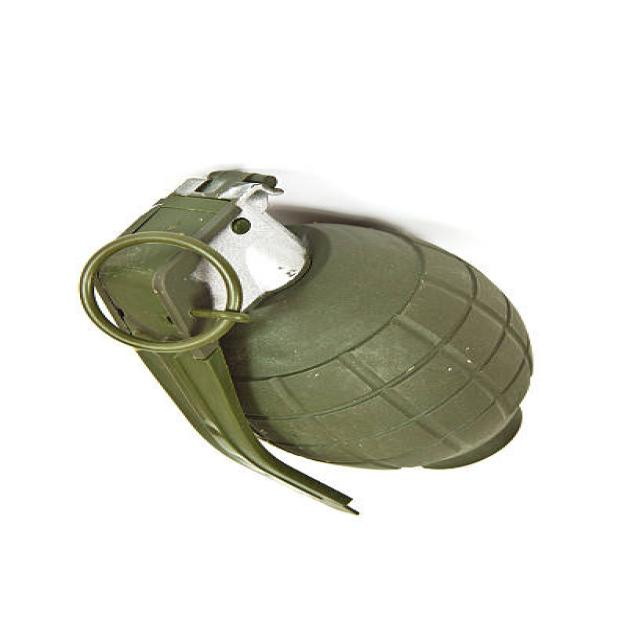grenade: (77, 163, 547, 530)
